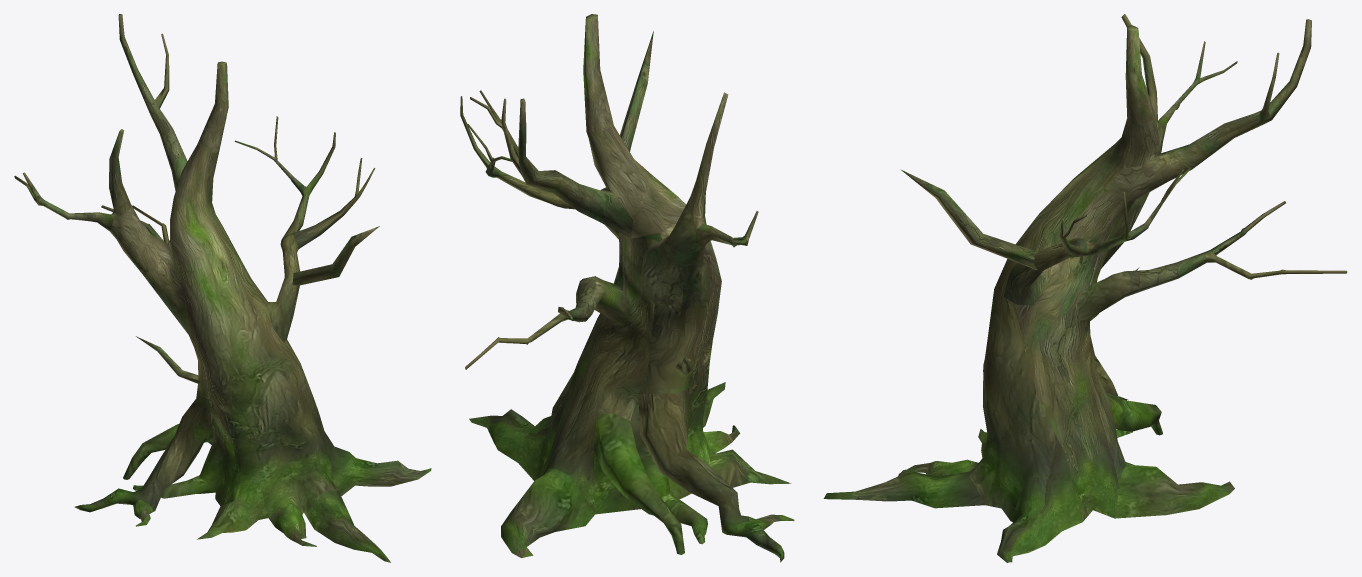
File: zc_shugan.fbx
3 renders of one model, left to right at view 1: azimuth 30°, elevation 25°; view 2: azimuth 150°, elevation 25°; view 3: azimuth 270°, elevation 25°, orthographic. The views are drawn at different scales.
Visible parts, largest first — view 1: zc_shugan; view 2: zc_shugan; view 3: zc_shugan.
Part boxes in pixels (box(x1,y1,x2,y2)): zc_shugan: box(14, 14, 431, 562); zc_shugan: box(460, 14, 794, 562); zc_shugan: box(823, 14, 1347, 562).
Size of the model in its own units: 13.14 by 16.19 by 16.61.
